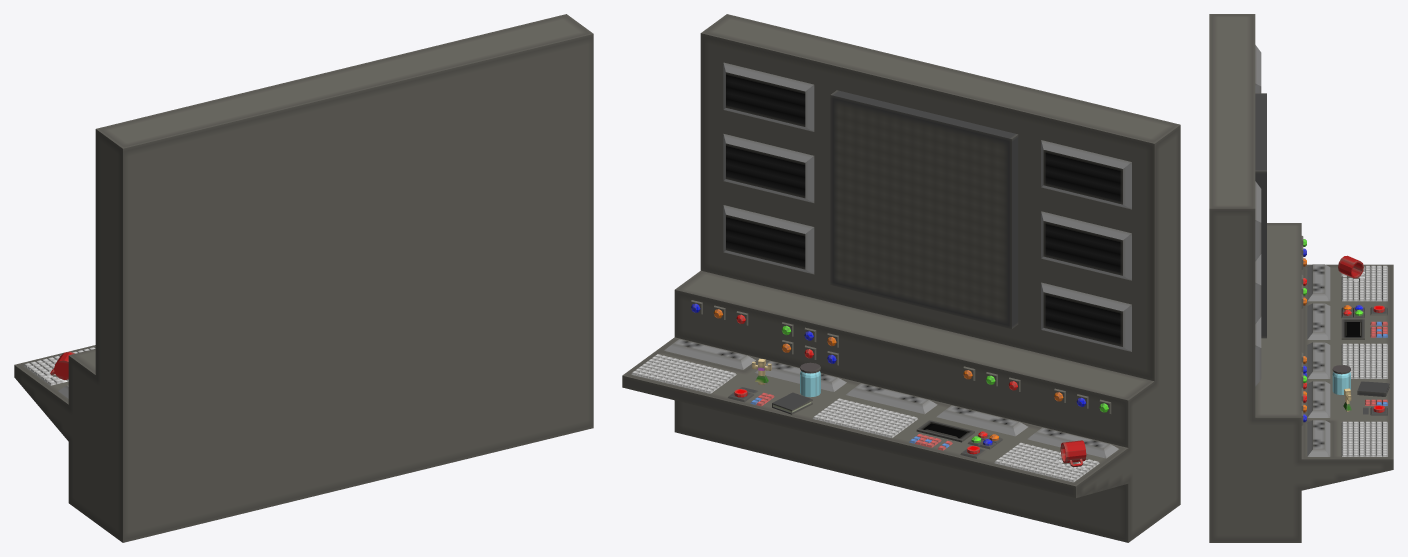
The model's file is control_system.obj.
The picture shows the model from 3 angles, left to right: view 1: azimuth 30°, elevation 25°; view 2: azimuth 150°, elevation 25°; view 3: azimuth 270°, elevation 25°; orthographic projection. The views are drawn at different scales.
Parts seen in each view (by area): view 1: Cube; view 2: Cube; view 3: Cube.
Part boxes in pixels (x1=…): Cube: x1=14, y1=14, x2=593, y2=542; Cube: x1=622, y1=14, x2=1180, y2=542; Cube: x1=1209, y1=14, x2=1393, y2=542.
Bounding box in the file's own units: 5 × 4 × 2.
